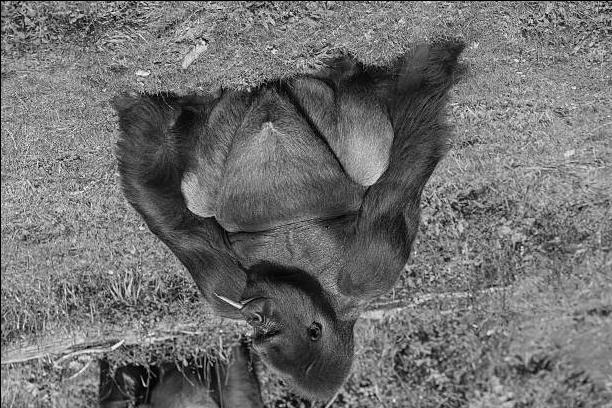gorille_Autres: (98, 33, 462, 408)
